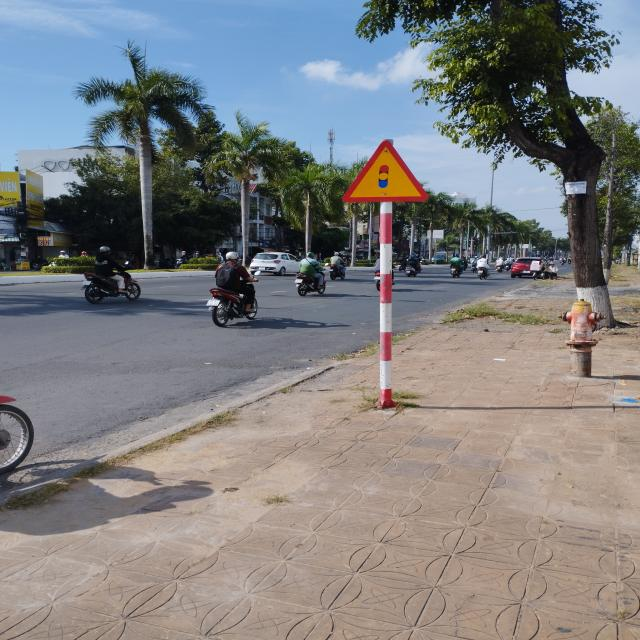Duong_Co_Go_Giam_Toc: (342, 140, 427, 202)
